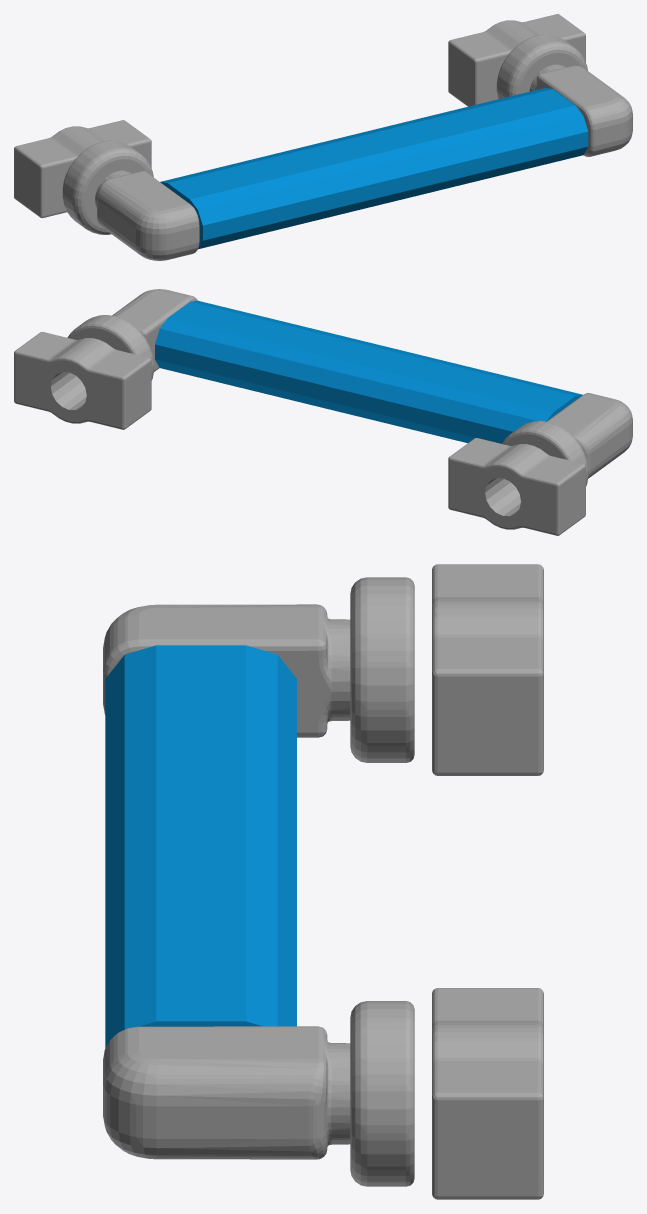
The model's file is handrail_8_5.dae.
3 views of the same model, one above another, from view 1: azimuth 30°, elevation 25°; view 2: azimuth 150°, elevation 25°; view 3: azimuth 270°, elevation 25° (orthographic). The views are drawn at different scales.
Parts seen in each view (by area): view 1: node; view 2: node; view 3: node.
Part boxes in pixels (x1,y1,x2,y2): node: [14, 14, 632, 260]; node: [14, 289, 632, 535]; node: [103, 564, 543, 1199].
Bounding box in the file's own units: 0.2235 × 0.0331 × 0.0782.
